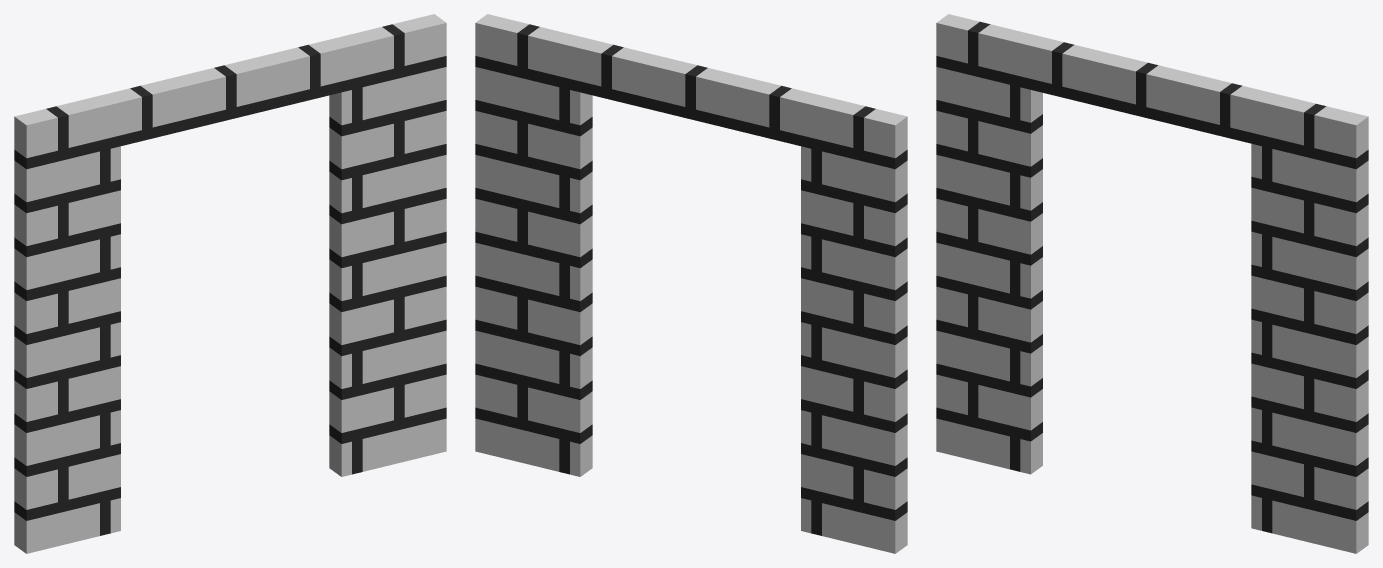
The model's file is ConstructionMaterials-41.obj.
3 renders of one model, left to right at view 1: azimuth 30°, elevation 25°; view 2: azimuth 150°, elevation 25°; view 3: azimuth 330°, elevation 25°, orthographic.
Bounding box in the file's own units: 4 × 3.9 × 0.2.
1 material, 1 textured.
